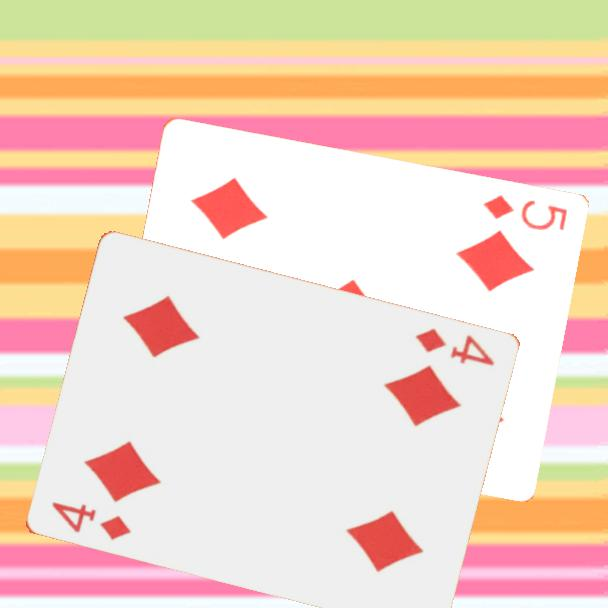d04: (47, 499, 134, 543), (411, 325, 497, 369)
d05: (479, 191, 570, 234)
